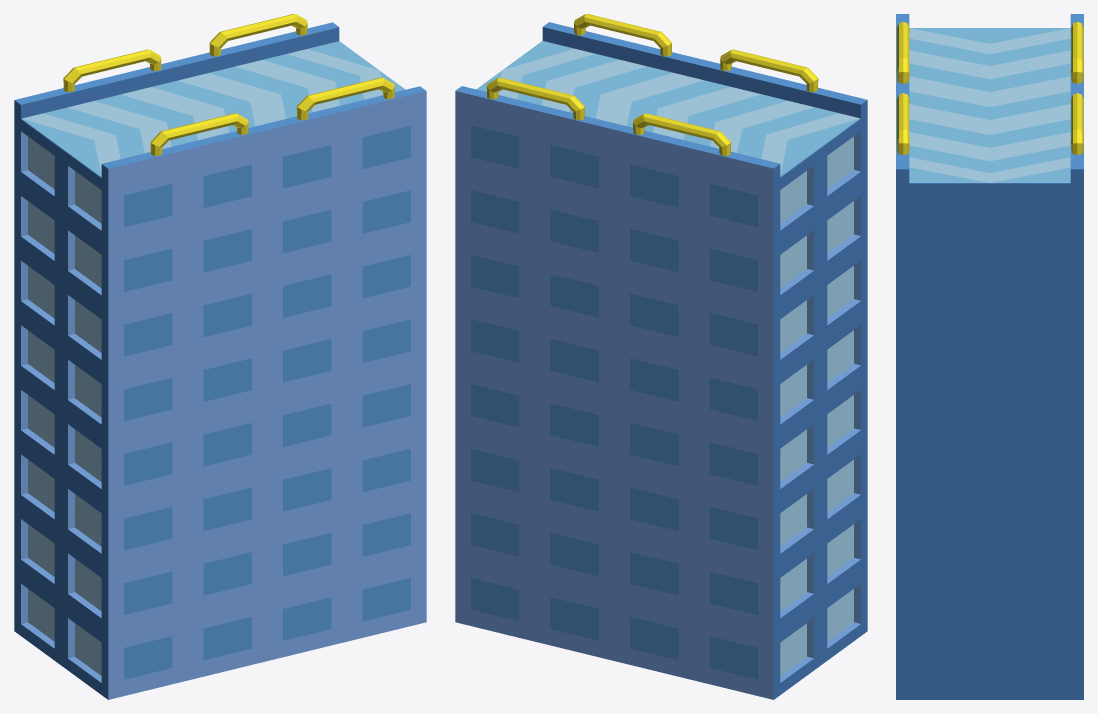
The model's file is bulding.fbx.
3 views of the same model, side by side, from view 1: azimuth 30°, elevation 25°; view 2: azimuth 150°, elevation 25°; view 3: azimuth 270°, elevation 25° (orthographic).
Visible parts, largest first — view 1: bulding; view 2: bulding; view 3: bulding.
Boxes of the visible parts, x1,y1,x2,y2 form: bulding: (14, 14, 426, 699); bulding: (455, 14, 867, 699); bulding: (896, 14, 1083, 699).
Bounding box in the file's own units: 654 × 1082 × 334.
